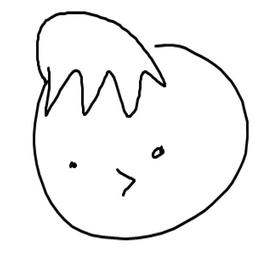pointy_nose: (117, 167, 143, 201)
small_eye: (142, 144, 171, 162), (62, 158, 81, 171)
